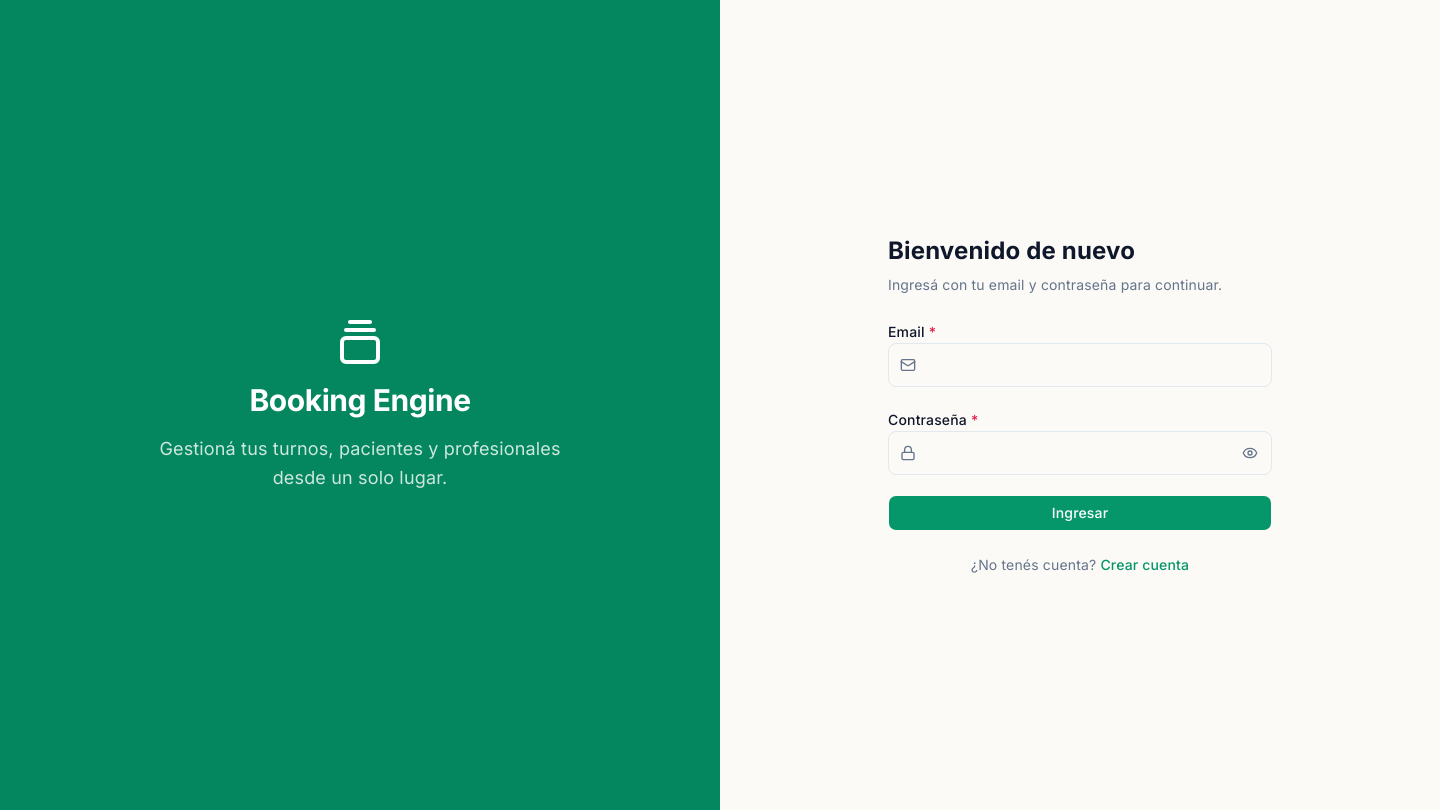
Test: LoginForm — credential failure wiring › renders a single #login-form-error[role=alert] when signIn rejects
Type "test@example.com" into the field labelled "Email*" at (1080, 365), box [888,343,1272,387]
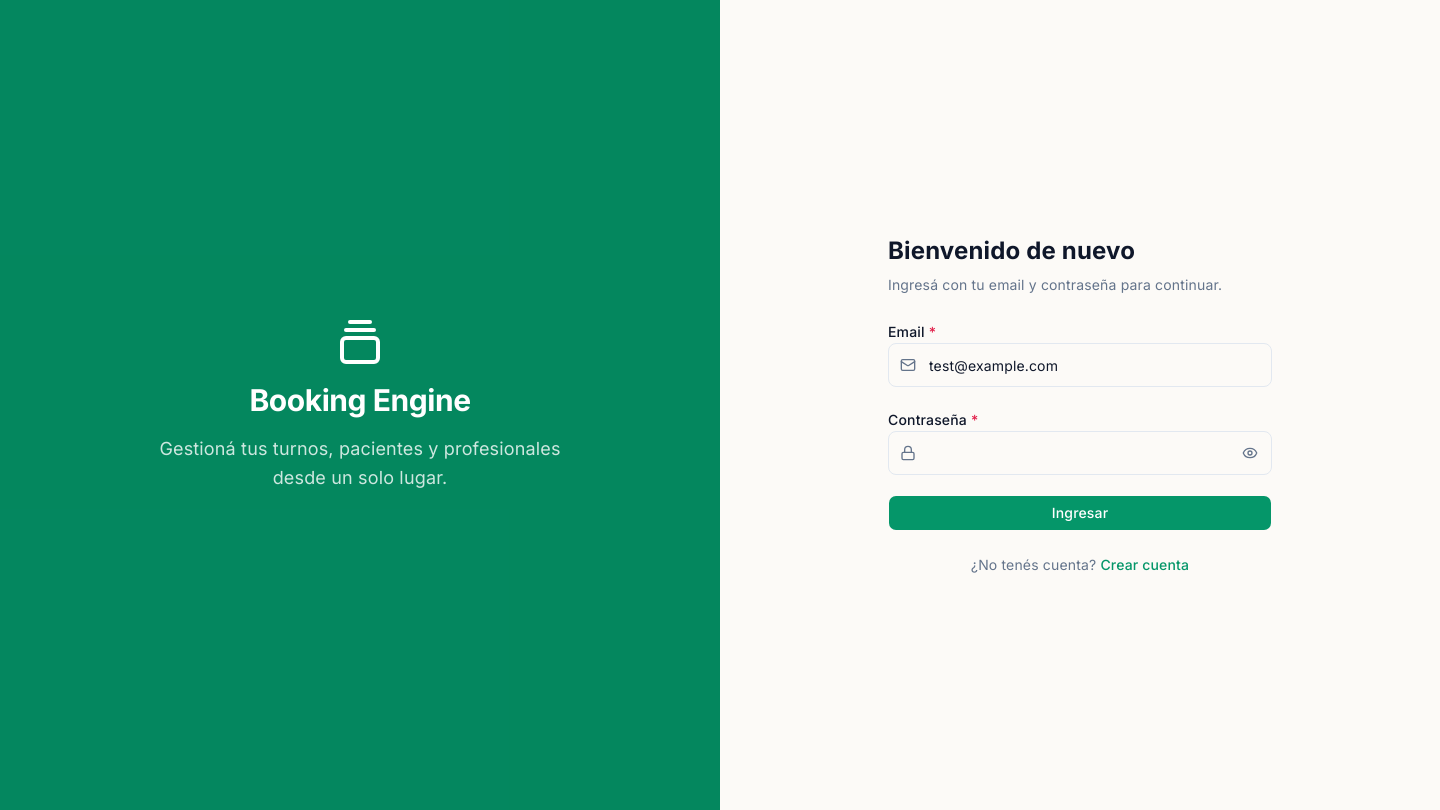
Type "bad-password" into the password field labelled "Contraseña*" at (1080, 453), box [888,431,1272,475]
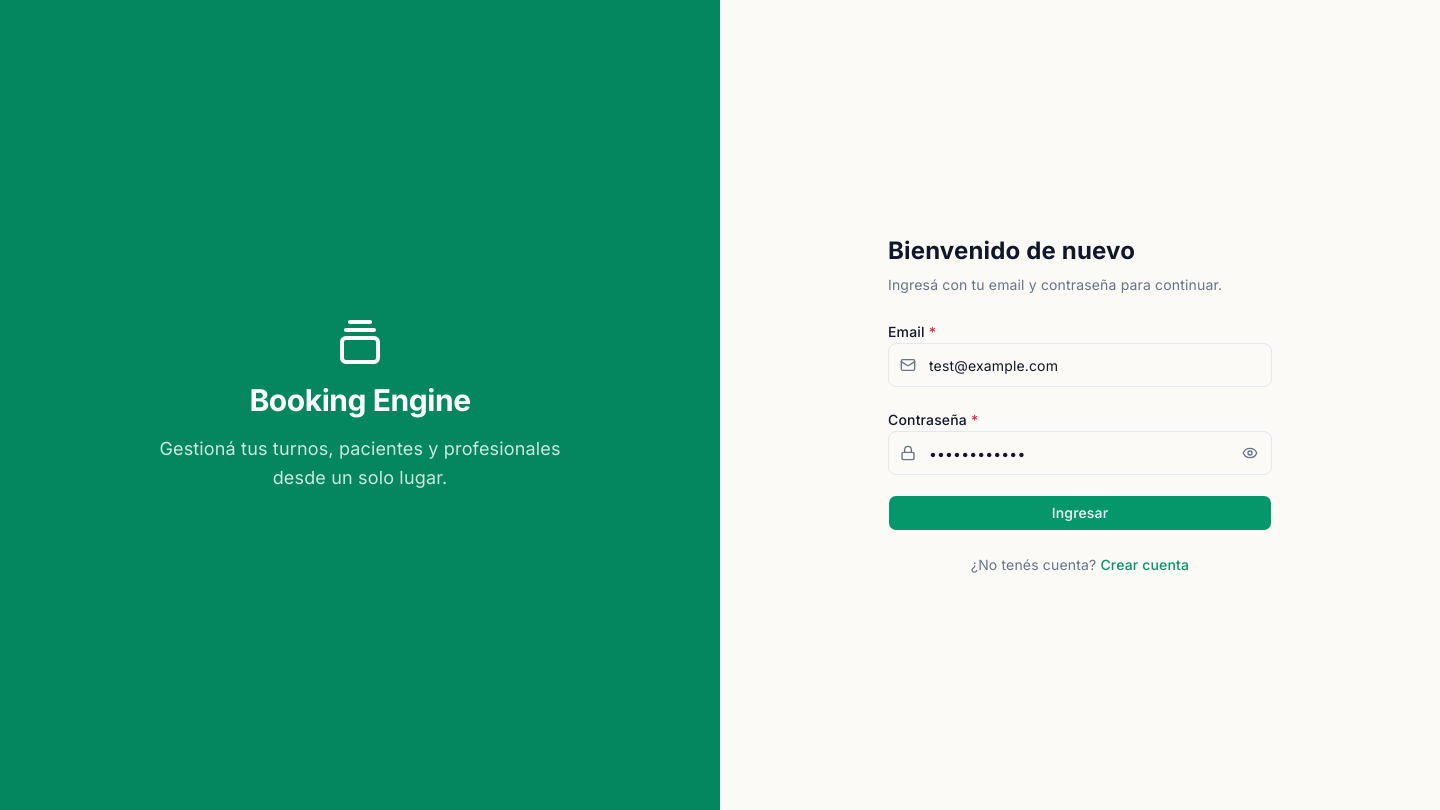
Click the button "Ingresar" at (1080, 513), box [888,495,1272,531]
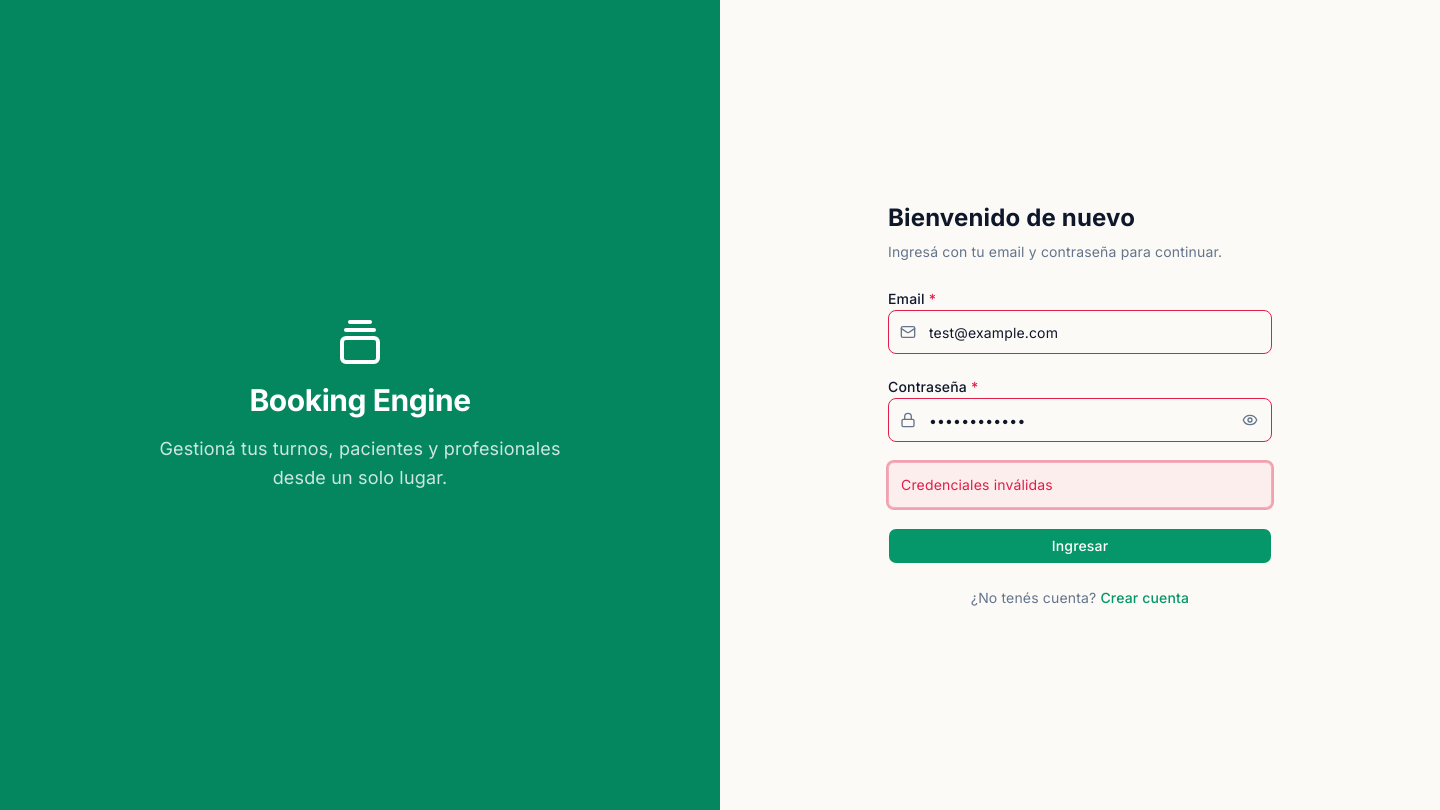
Expected: the number of messages is 1, [888,462,1272,508]
